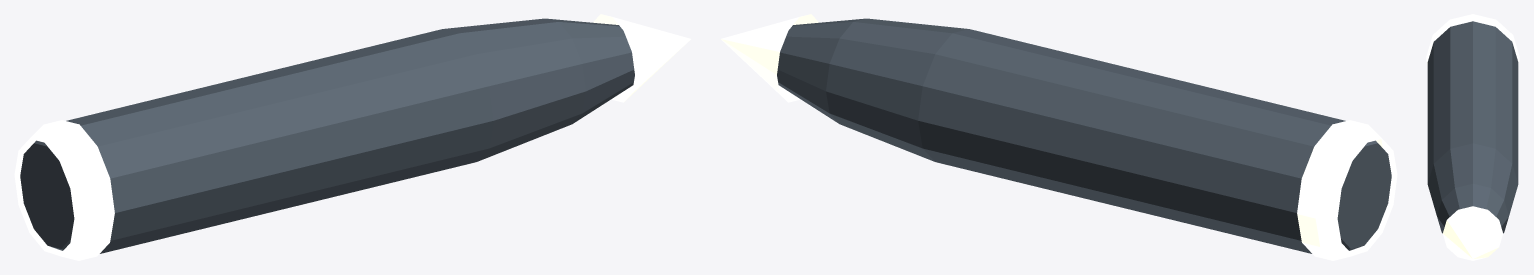
File: ghostfire.glb
3 views of the same model, side by side, from view 1: azimuth 30°, elevation 25°; view 2: azimuth 150°, elevation 25°; view 3: azimuth 270°, elevation 25° (orthographic). The views are drawn at different scales.
Parts seen in each view (by area): view 1: Projectile / tapered copper-alloy jacket.023, Projectile / rear tracer compound.023, Projectile / luminous nose.023; view 2: Projectile / tapered copper-alloy jacket.023, Projectile / rear tracer compound.023, Projectile / luminous nose.023; view 3: Projectile / tapered copper-alloy jacket.023, Projectile / luminous nose.023, Projectile / rear tracer compound.023.
Boxes of the visible parts, x1,y1,x2,y2 form: Projectile / tapered copper-alloy jacket.023: (20,18,634,253); Projectile / rear tracer compound.023: (14,120,114,260); Projectile / luminous nose.023: (593,14,690,102); Projectile / tapered copper-alloy jacket.023: (777,18,1391,253); Projectile / rear tracer compound.023: (1297,120,1397,260); Projectile / luminous nose.023: (721,14,818,102); Projectile / tapered copper-alloy jacket.023: (1427,21,1518,233); Projectile / luminous nose.023: (1442,206,1503,260); Projectile / rear tracer compound.023: (1426,14,1519,65).
Size of the model in its own units: 0.424 by 0.08 by 0.08.
